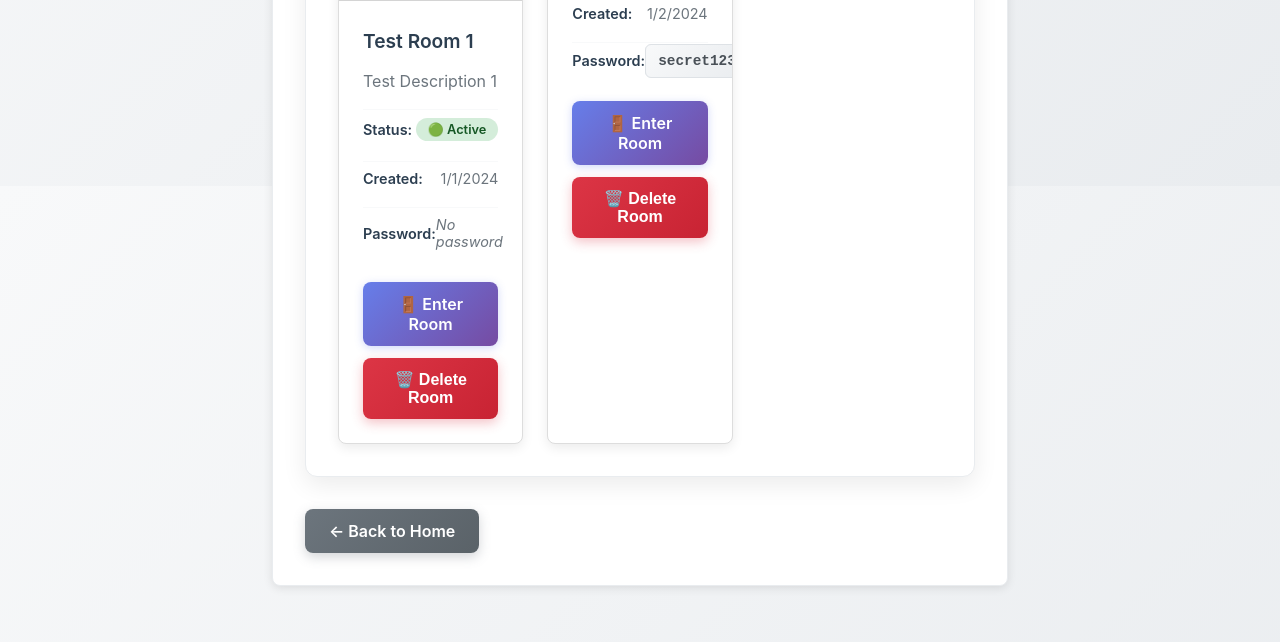
Test case: TutorView - Delete Room Modal › should handle delete room successfully
The image size is (1280, 642).
(page scrolled)
Expected: the heading "Test Room 1" is shown, left=363, top=29, right=474, bottom=53
// Open modal
Click the button "🗑️ Delete Room" below "No password" at (431, 388), box left=363, top=358, right=498, bottom=419
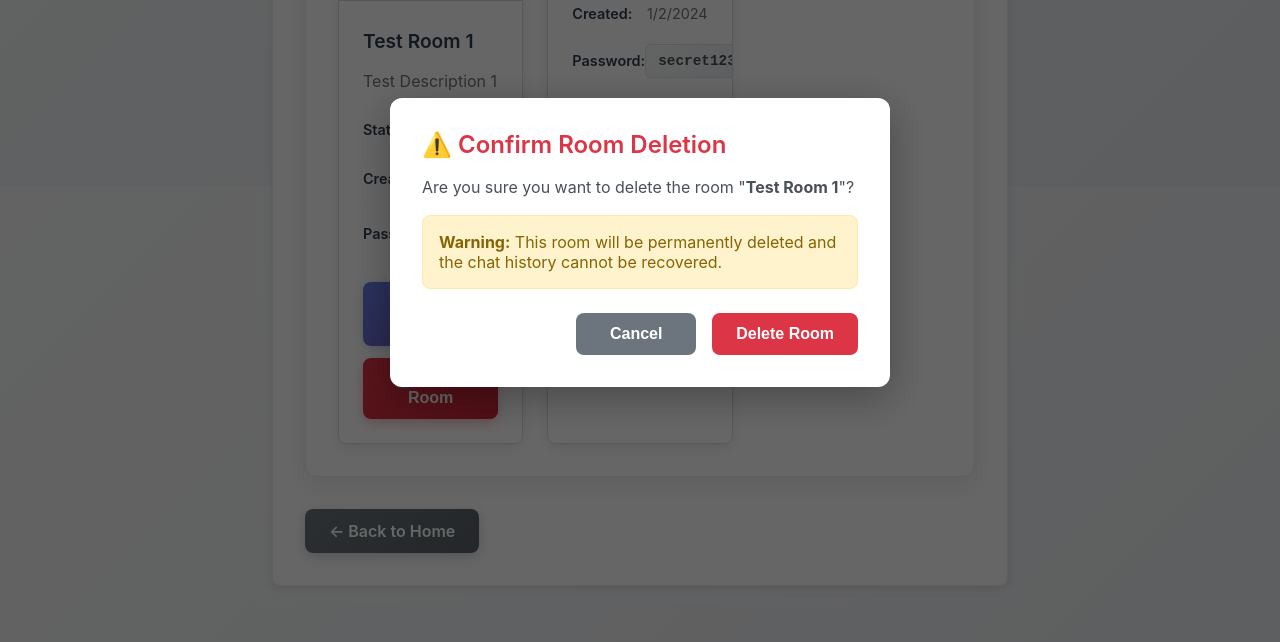
Now the heading "⚠️ Confirm Room Deletion" is shown, box left=422, top=130, right=726, bottom=158
Click the button "Delete Room" at (785, 334), box left=712, top=312, right=858, bottom=354
(page scrolled)
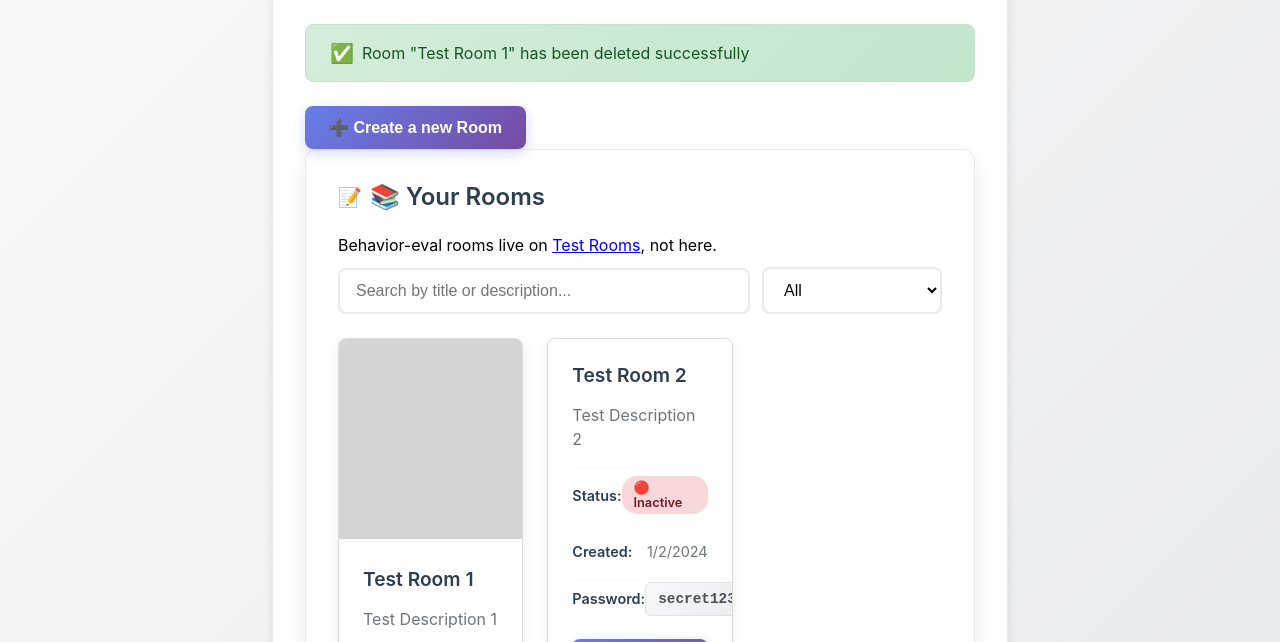
Now the heading "Confirm Room Deletion" is gone
Now the text "Room \"Test Room 1\" has been deleted successfully" is shown, box left=305, top=24, right=975, bottom=82
